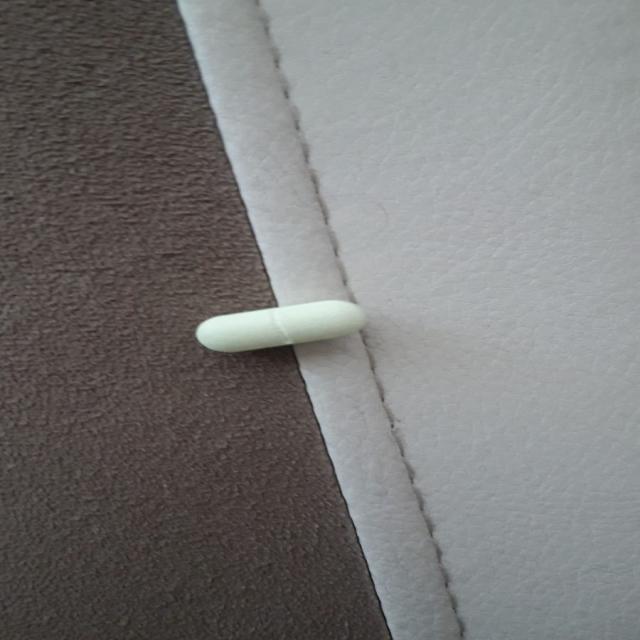pills: (178, 283, 386, 356)
